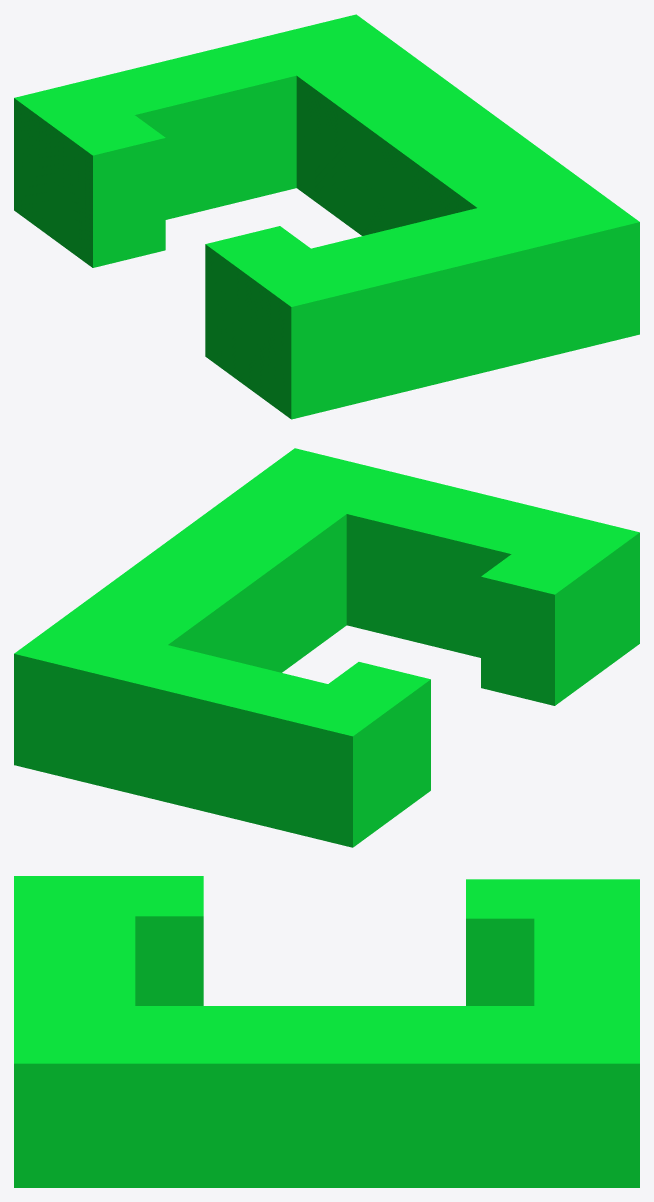
The model's file is LetterC.obj.
The picture shows the model from 3 angles, top to bottom: view 1: azimuth 30°, elevation 25°; view 2: azimuth 150°, elevation 25°; view 3: azimuth 270°, elevation 25°; orthographic projection. The views are drawn at different scales.
Parts seen in each view (by area): view 1: LetterC; view 2: LetterC; view 3: LetterC.
Boxes of the visible parts, box(x1,y1,x2,y2) form: LetterC: box(14, 14, 639, 419); LetterC: box(14, 448, 639, 847); LetterC: box(14, 876, 639, 1187).
Bounding box in the file's own units: 3.24 × 1 × 4.57.
